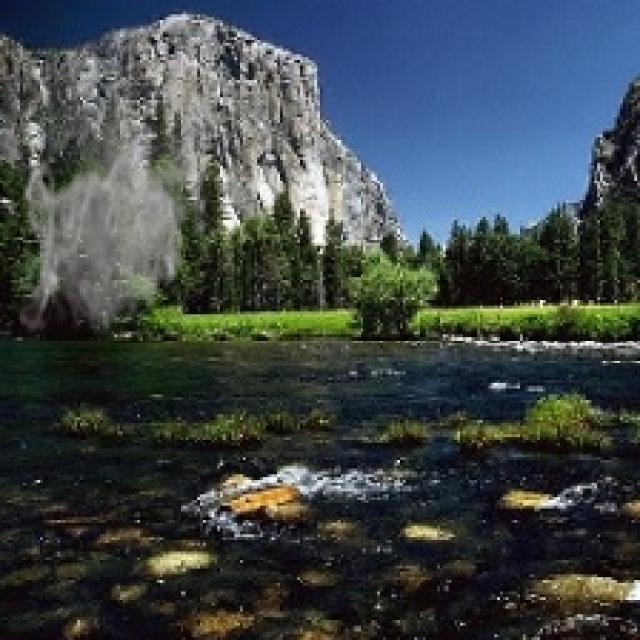Smoke: (20, 60, 220, 340)
